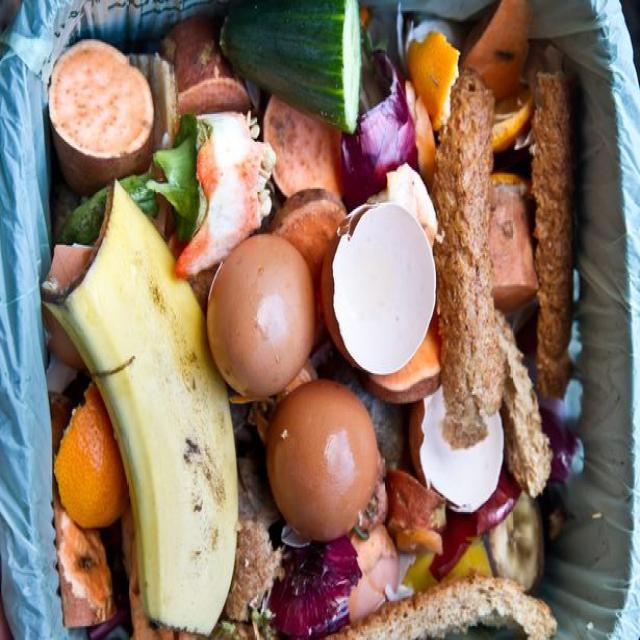Garbage: (40, 0, 584, 639)
